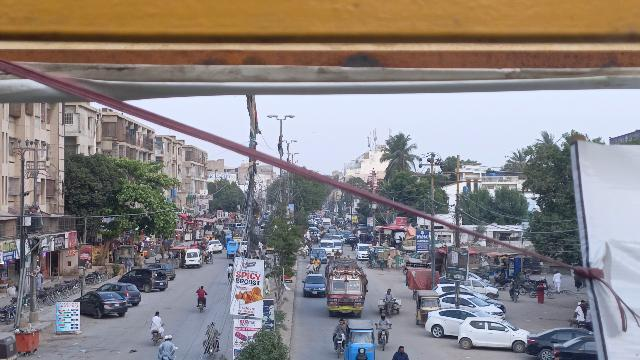Bike: (375, 324, 392, 354), (330, 332, 348, 360), (205, 340, 220, 358), (148, 329, 163, 346), (509, 286, 522, 304), (196, 298, 207, 314)
Bus: (325, 257, 367, 319)
Car: (456, 314, 529, 355), (424, 307, 481, 340), (74, 291, 129, 320), (441, 294, 503, 319), (118, 268, 168, 293), (95, 281, 142, 305), (300, 274, 326, 298)
Cart: (376, 286, 404, 317)
Person: (157, 331, 177, 357), (150, 307, 163, 330), (204, 320, 218, 341), (333, 316, 347, 334), (377, 311, 390, 330), (196, 285, 208, 300), (511, 276, 521, 288), (385, 289, 393, 304)
Rickshaw: (344, 319, 378, 360), (413, 288, 437, 327)
Van: (183, 249, 202, 269)
